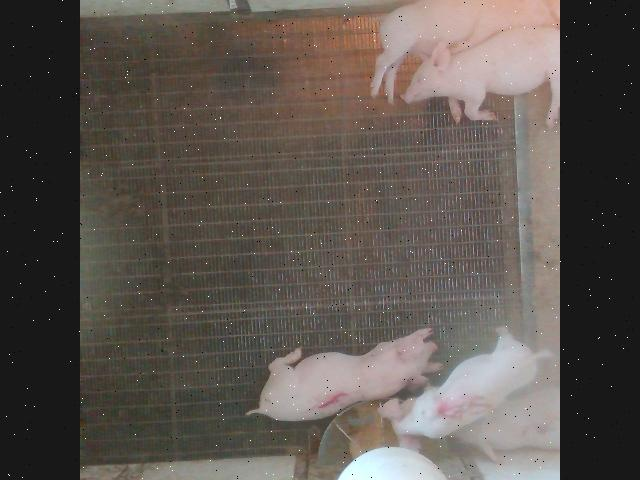pig-1: (248, 328, 439, 420)
pig-3: (451, 386, 558, 459)
pig-5: (379, 326, 551, 449)
